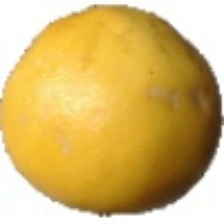grapes: (13, 1, 180, 195)
